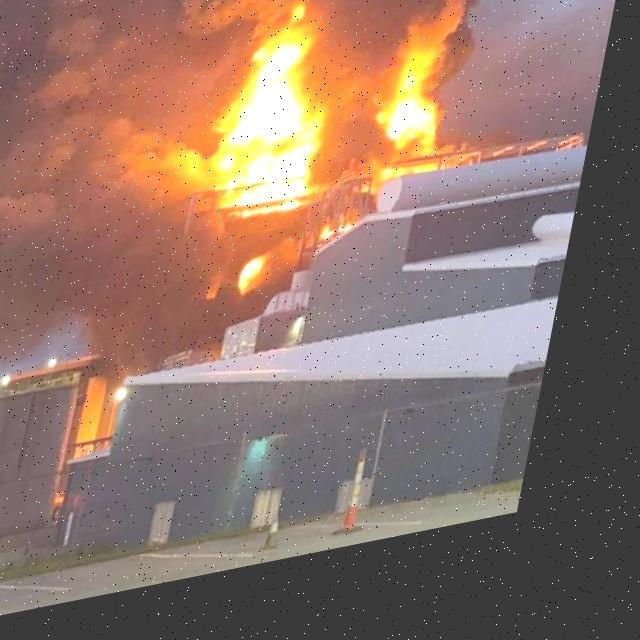Fire: (196, 44, 344, 247), (369, 62, 474, 208), (234, 261, 286, 322)
